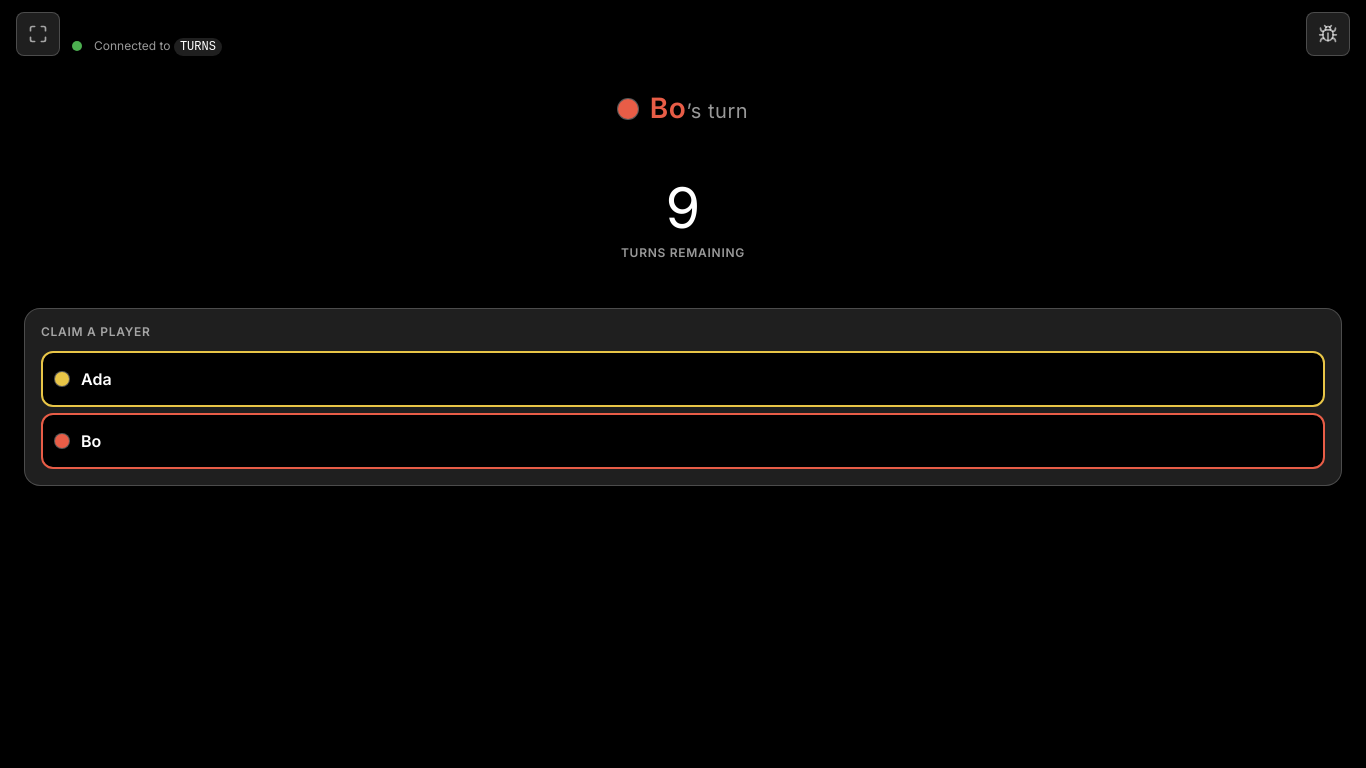
Test: companion turn controls › frees Undo again when the host refuses it
The width and height of the screenshot is (1366, 768).
Click the button "Ada": (96, 379) x1=41 y1=351 x2=1325 y2=407
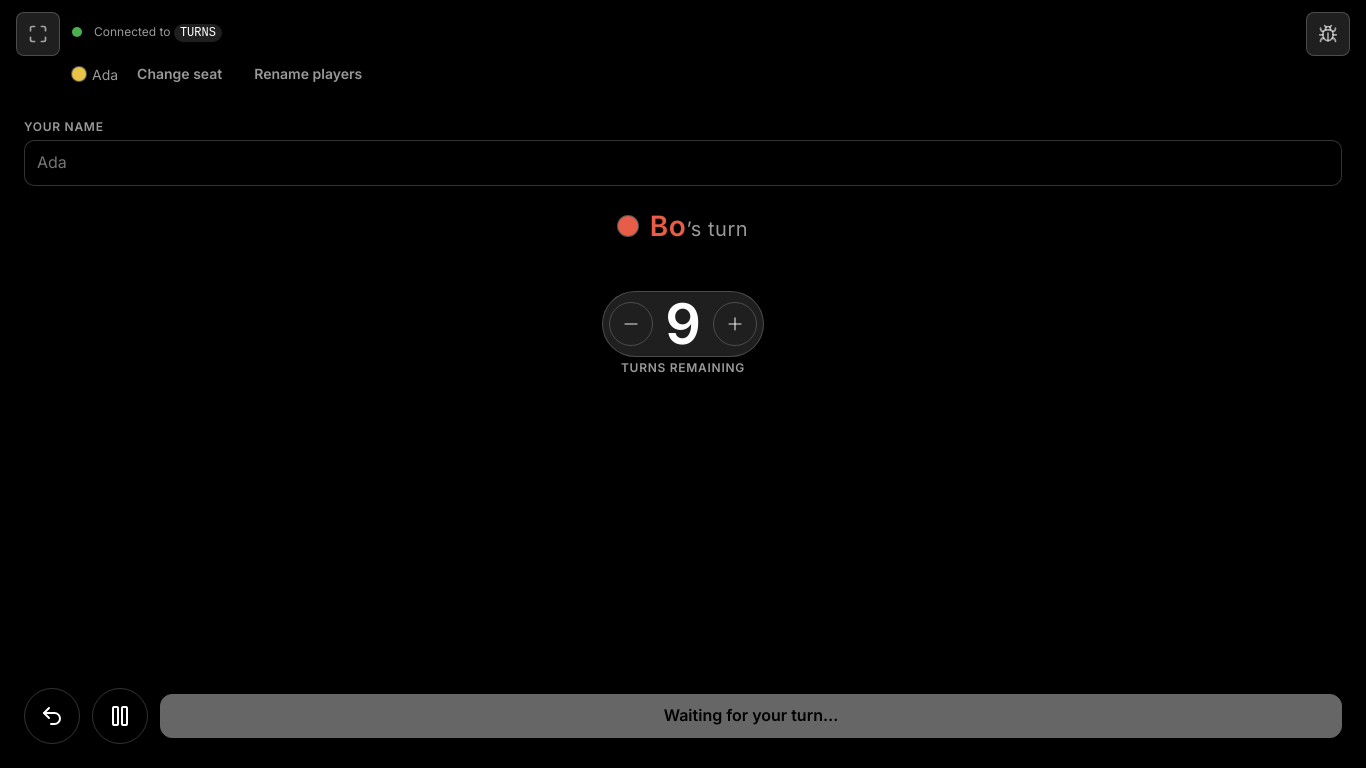
Click the button named "Undo": (52, 716) x1=24 y1=688 x2=80 y2=744
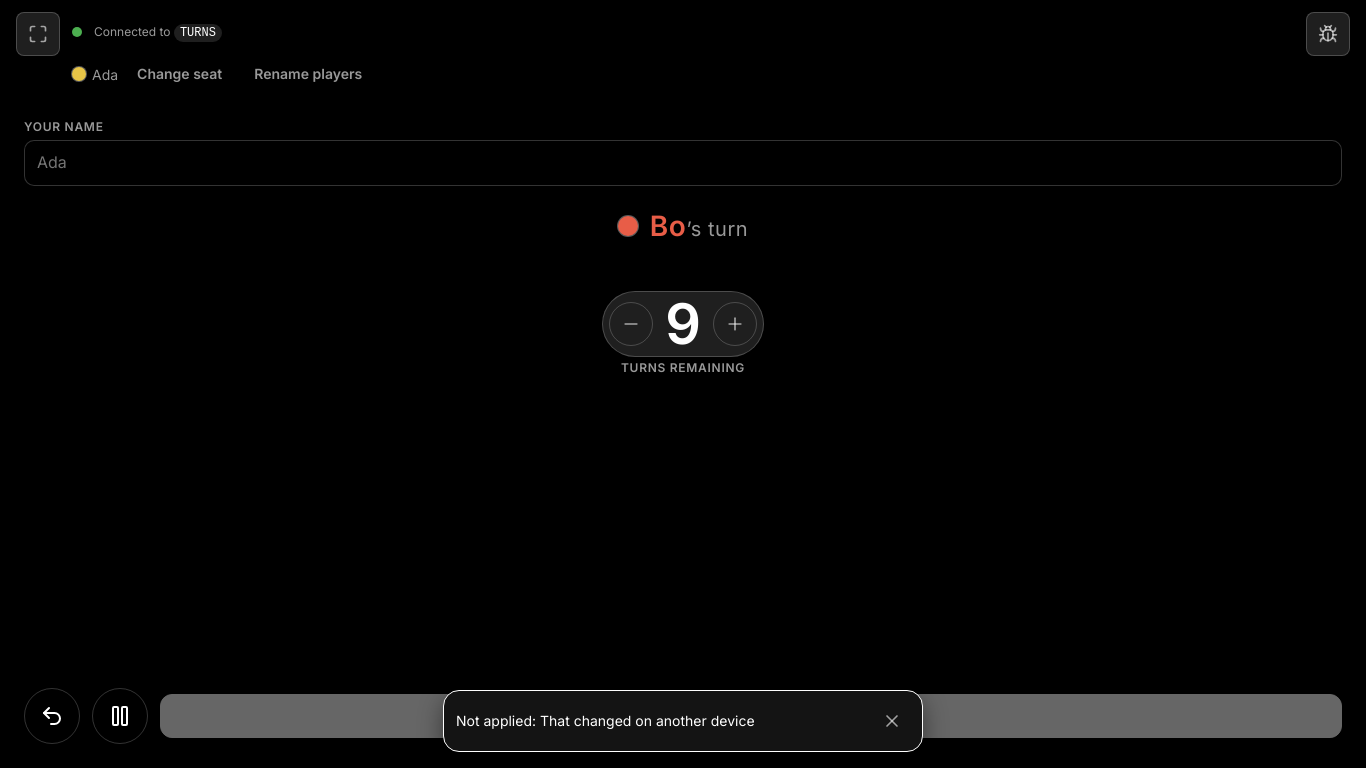
Check: the button named "Undo" is enabled, box x1=24 y1=688 x2=80 y2=744
Check: the text "Not applied: That changed on another device" is shown, box x1=456 y1=712 x2=755 y2=729
